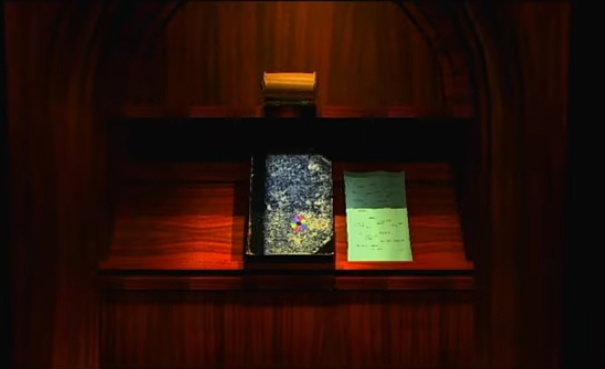Waiting: (287, 212, 312, 233)
